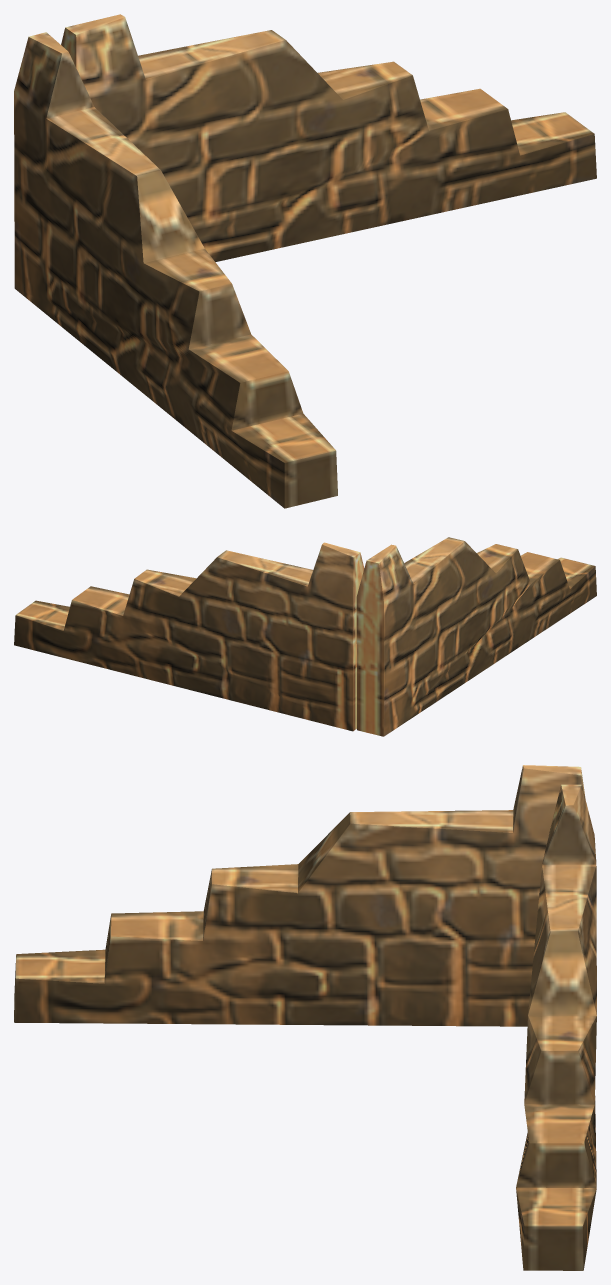
File: Wall_corner_2.fbx
3 renders of one model, top to bottom at view 1: azimuth 30°, elevation 25°; view 2: azimuth 150°, elevation 25°; view 3: azimuth 270°, elevation 25°, orthographic. The views are drawn at different scales.
Parts seen in each view (by area): view 1: remnants_011; view 2: remnants_011; view 3: remnants_011.
Boxes of the visible parts, bbox=[...] form: remnants_011: bbox=[14, 14, 596, 508]; remnants_011: bbox=[14, 537, 596, 736]; remnants_011: bbox=[14, 765, 596, 1270].
Bounding box in the file's own units: 2.98 × 1.26 × 2.65.
